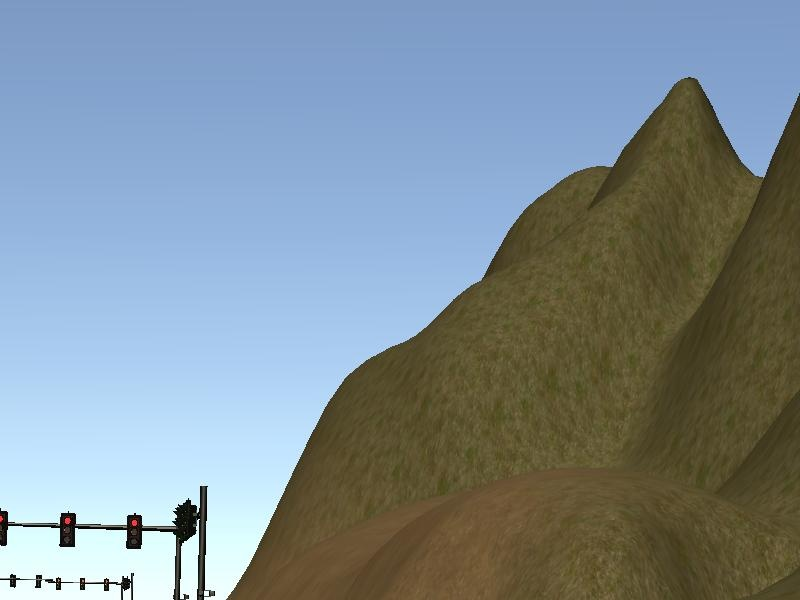red: (54, 509, 80, 550), (124, 512, 146, 550), (1, 509, 10, 547)
